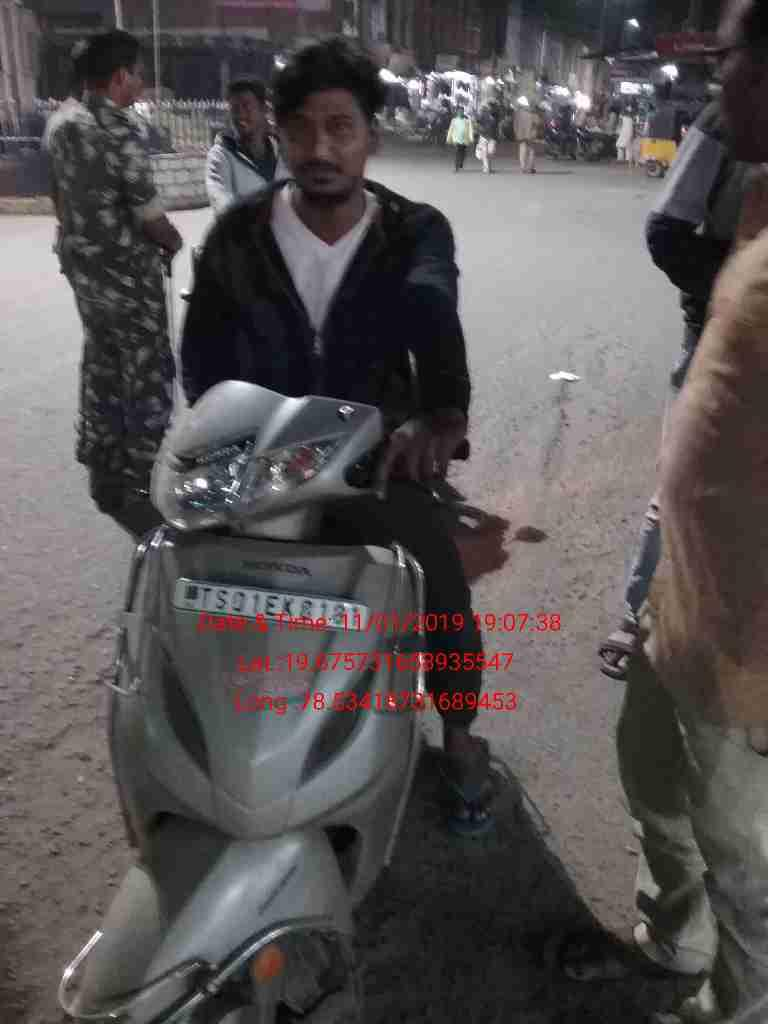plate: (168, 575, 371, 633)
